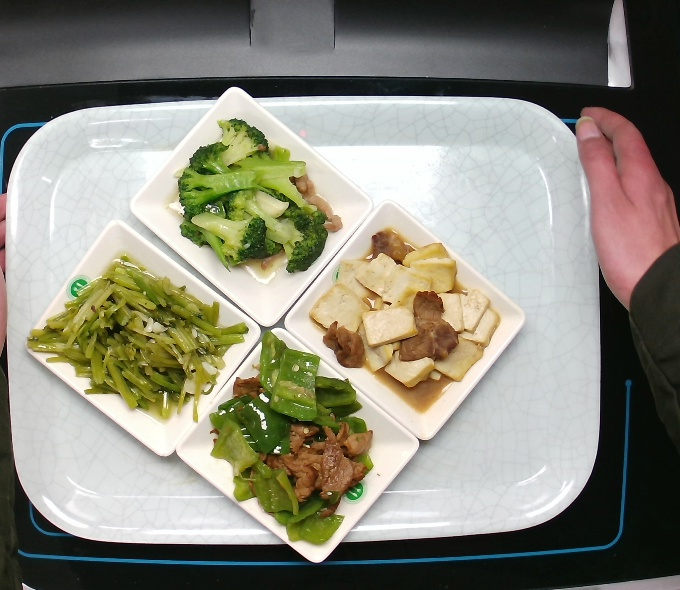wcq-DouFuRouPian: (319, 222, 522, 402)
wcq-QinCai: (17, 255, 258, 430)
wcq-QingJiaoChaoRou: (208, 330, 375, 543)
wcq-XiLanHua: (157, 109, 337, 276)
